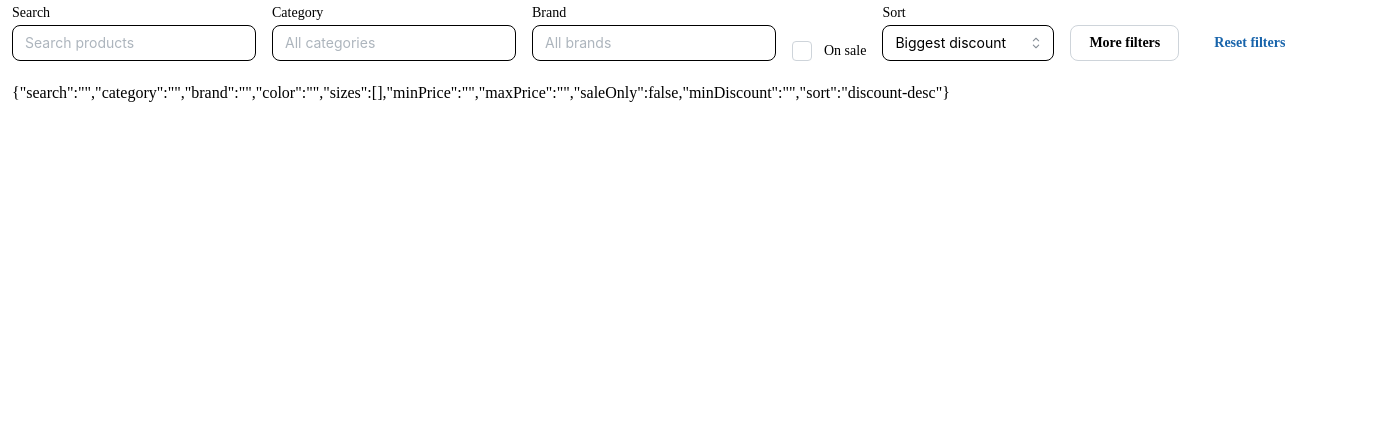
desktop primary controls keep advanced fields behind More filters
This screenshot has width=1390, height=435.
Expected: the field labelled "Search" is shown, [12, 25, 256, 61]
Expected: the field labelled "Category" is shown, [272, 25, 516, 61]
Click the button "More filters" at (1125, 43), box [1070, 25, 1179, 61]
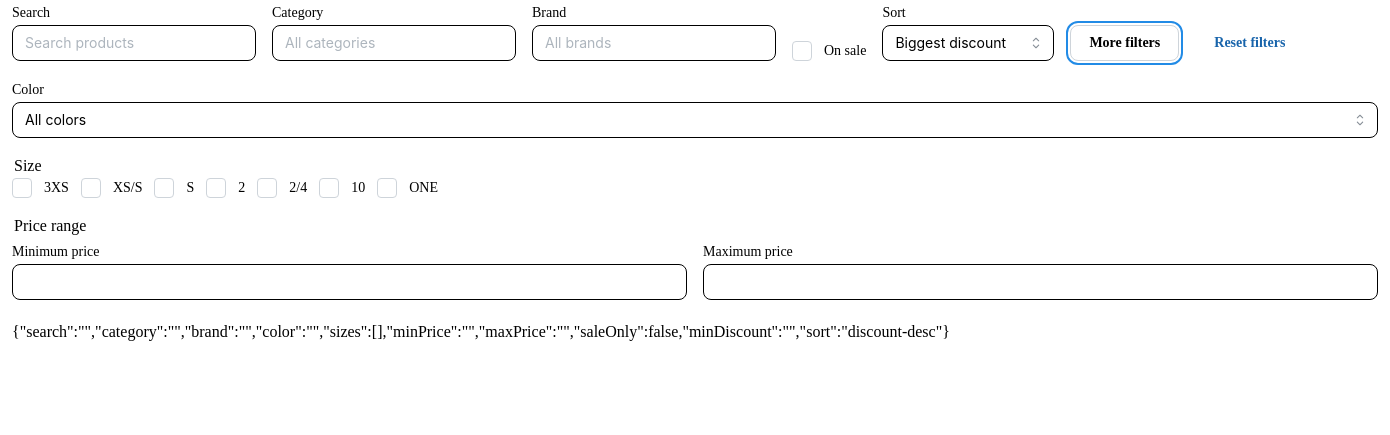
Expected: the dropdown labelled "Color" is shown, [12, 102, 1378, 138]
Expected: the element "Size" is shown, [12, 157, 438, 198]
Expected: the element "Price range" is shown, [12, 214, 1378, 300]
Click the checkbox labelled "On sale" at (802, 51), box [792, 41, 812, 61]
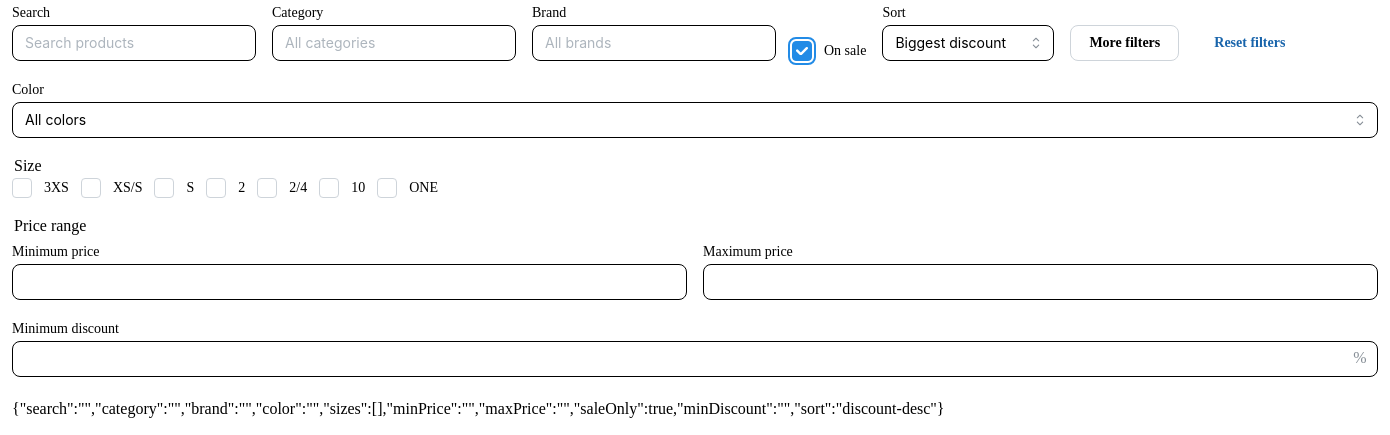
Expected: the number field labelled "Minimum discount" is shown
Type "30" into the number field labelled "Minimum discount" at (695, 359), box [12, 341, 1378, 377]
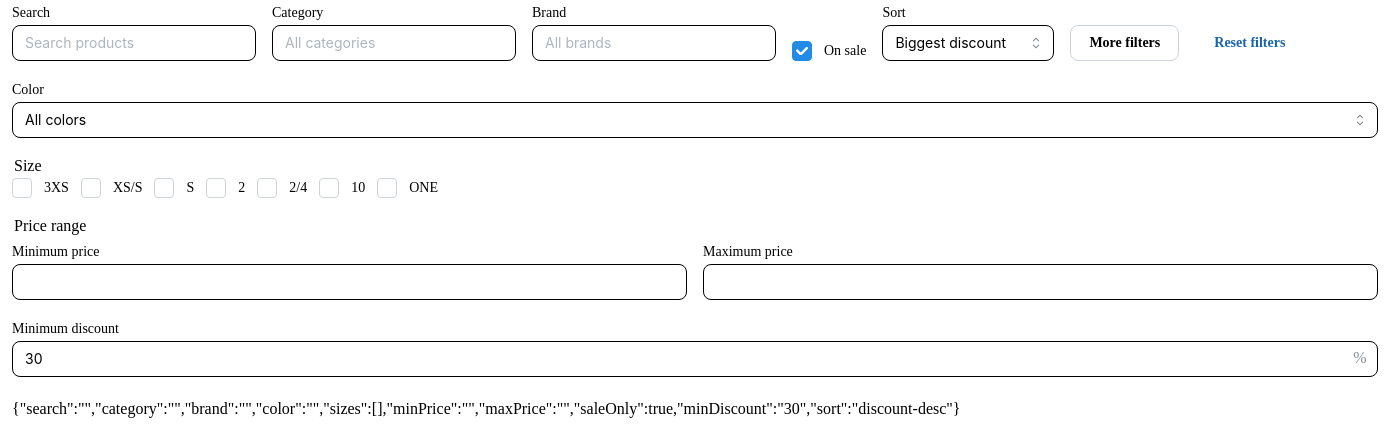
Click the checkbox labelled "On sale" at (802, 51), box [792, 41, 812, 61]
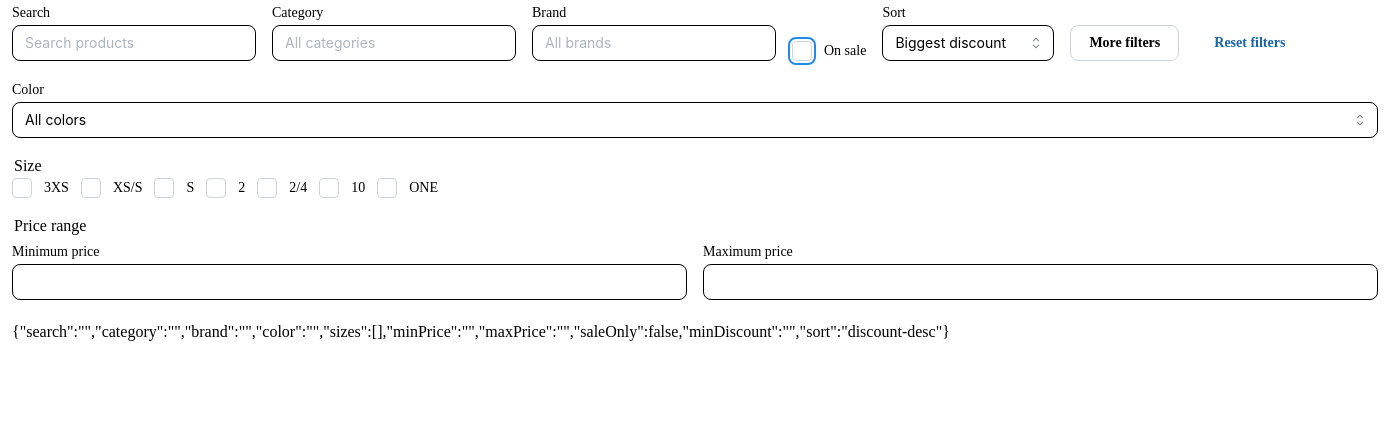
Expected: the label labelled "Minimum discount" is gone
